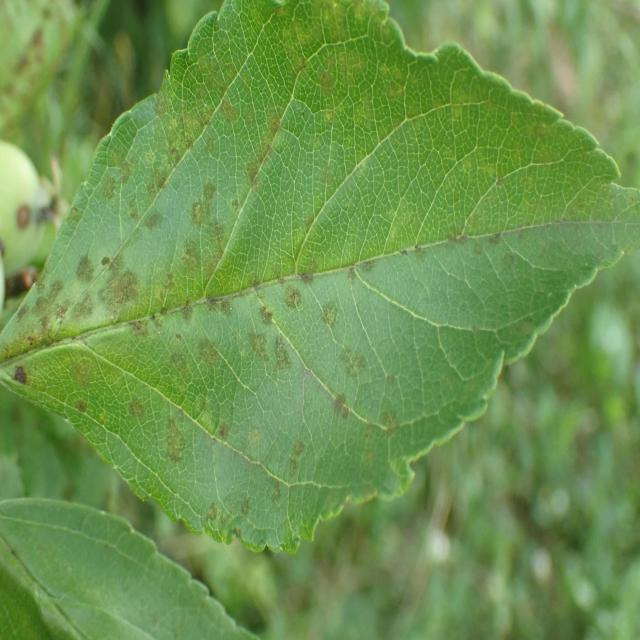scab: (10, 46, 505, 515)
